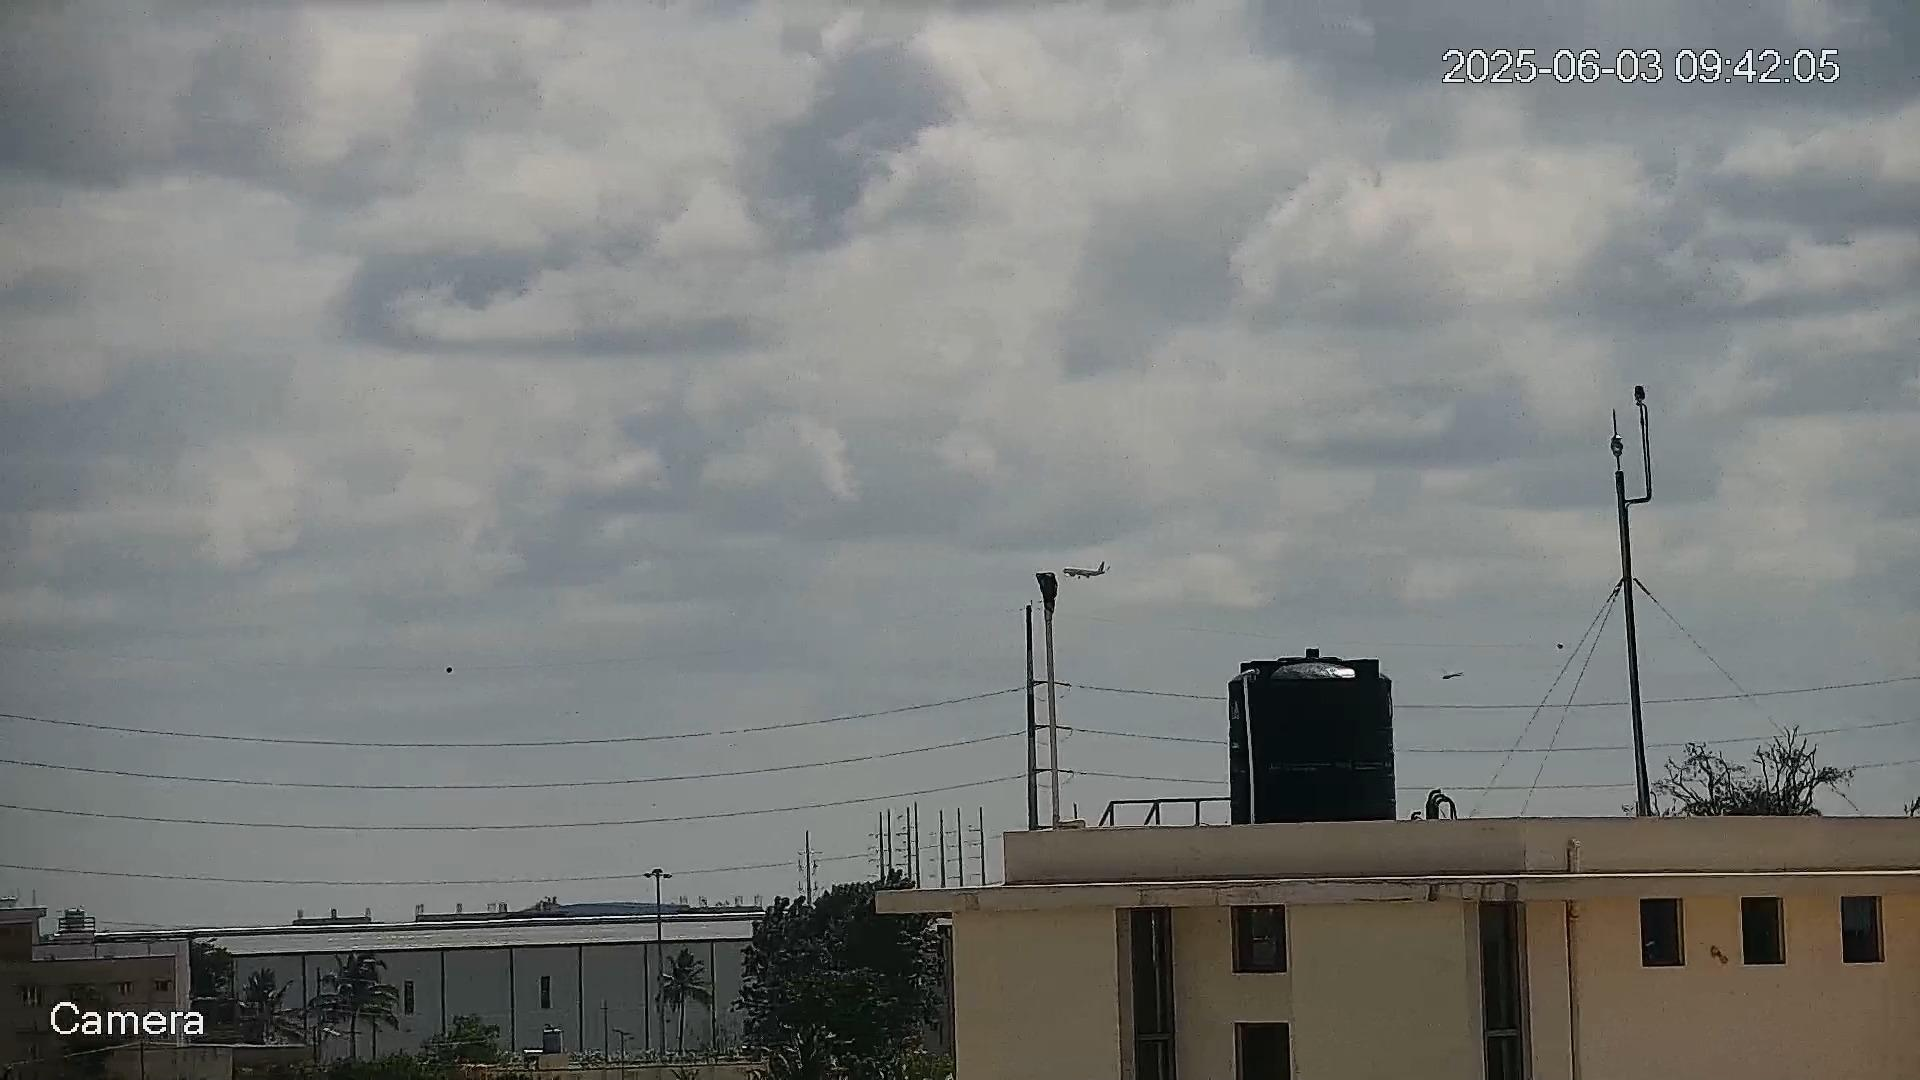Aircraft: (1062, 560, 1112, 582)
